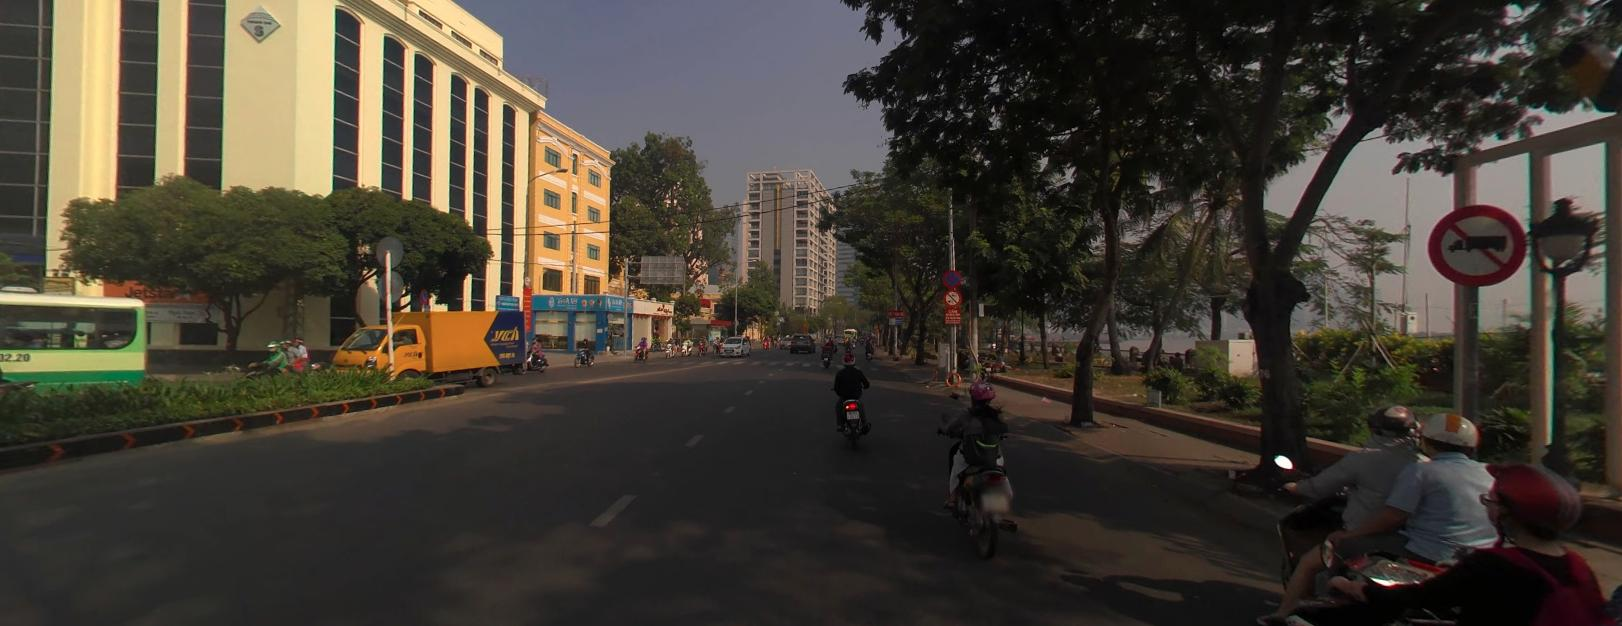Cam con lai: (1428, 202, 1527, 285), (942, 288, 961, 306)
Cam dung va do: (942, 268, 961, 286)
